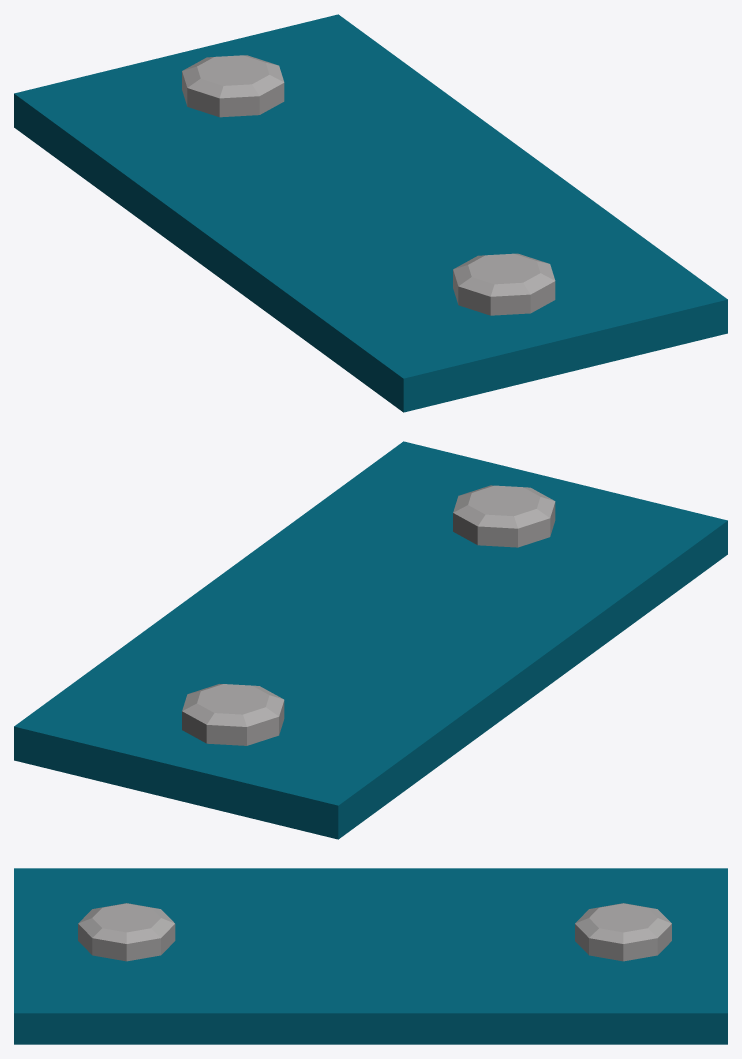
The model's file is Xylophone_05.fbx.
The picture shows the model from 3 angles, top to bottom: view 1: azimuth 30°, elevation 25°; view 2: azimuth 150°, elevation 25°; view 3: azimuth 270°, elevation 25°; orthographic projection. The views are drawn at different scales.
Parts seen in each view (by area): view 1: Xylophone_05; view 2: Xylophone_05; view 3: Xylophone_05.
Part boxes in pixels (x1=…): Xylophone_05: x1=14, y1=14, x2=727, y2=412; Xylophone_05: x1=14, y1=441, x2=727, y2=839; Xylophone_05: x1=14, y1=868, x2=727, y2=1044.
Bounding box in the file's own units: 100 × 17.38 × 208.
